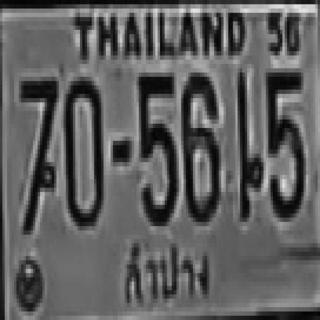N00: (63, 75, 101, 224)
N01: (237, 68, 255, 218), (238, 68, 254, 218), (238, 70, 252, 216)
N05: (136, 68, 176, 222), (265, 66, 302, 215)
N06: (180, 68, 218, 218)
N07: (19, 77, 57, 230)
P20: (117, 233, 216, 306)
